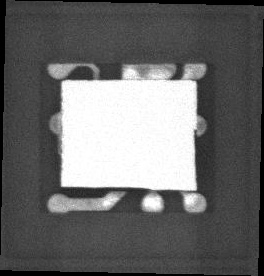DIE_BROKEN: (60, 185, 153, 191)
